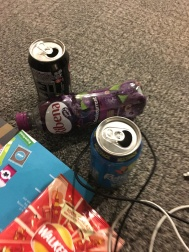bottle_purple: (12, 86, 154, 134)
can_black: (24, 37, 79, 100)
can_blue: (87, 118, 146, 198)
